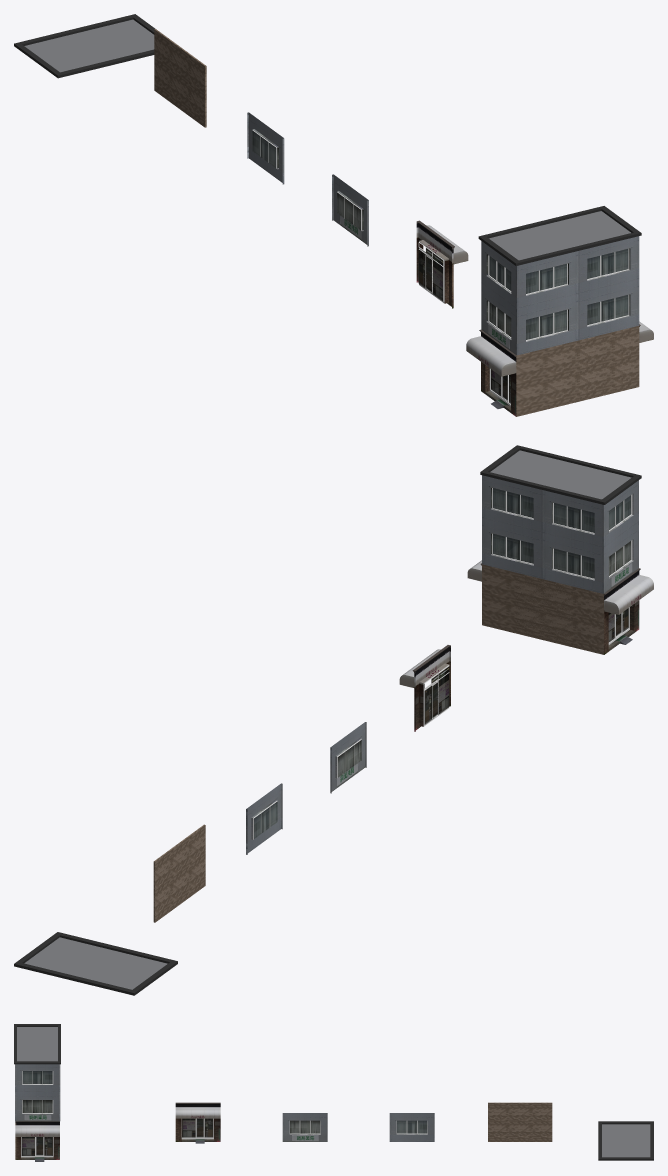
Rendered from bungalow.glb.
3 renders of one model, top to bottom at view 1: azimuth 30°, elevation 25°; view 2: azimuth 150°, elevation 25°; view 3: azimuth 270°, elevation 25°, orthographic. The views are drawn at different scales.
Parts seen in each view (by area): view 1: 006.3_Building_facade.003_12, 006.4_Building_facade.001_13, Roof_5, Roof.001_16, 006.4_Building_facade_4, 006.1_Building_facade_0, 006.3_Building_facade_3, 006.2_Building_facade_1, 006.2_Building_facade.003_9, 006.3_Building_facade.002_11, 006.1_Building_facade.002_7, 006.5_Building_prop.002_15; view 2: 006.3_Building_facade.003_12, 006.4_Building_facade.001_13, Roof_5, Roof.001_16, 006.4_Building_facade_4, 006.1_Building_facade_0, 006.2_Building_facade_1, 006.3_Building_facade_3, 006.2_Building_facade.003_9, 006.3_Building_facade.002_11, 006.1_Building_facade.002_7, 006.5_Building_prop.002_15; view 3: 006.4_Building_facade_4, Roof_5, Roof.001_16, 006.1_Building_facade_0, 006.2_Building_facade_1, 006.3_Building_facade_3, 006.2_Building_facade.001_8, 006.1_Building_facade.001_6, 006.3_Building_facade.001_10, 006.5_Building_prop_2, 006.5_Building_prop.001_14, 006.3_Building_facade.003_12.
Boxes of the visible parts, x1,y1,x2,y2 form: 006.3_Building_facade.003_12: (516,236,639,355); 006.4_Building_facade.001_13: (516,326,639,416); Roof_5: (14,14,155,78); Roof.001_16: (478,206,641,265); 006.4_Building_facade_4: (154,29,206,127); 006.1_Building_facade_0: (416,220,454,308); 006.3_Building_facade_3: (247,112,284,184); 006.2_Building_facade_1: (332,174,368,246); 006.2_Building_facade.003_9: (481,284,516,354); 006.3_Building_facade.002_11: (481,241,516,308); 006.1_Building_facade.002_7: (479,329,516,416); 006.5_Building_prop.002_15: (466,336,516,376); 006.3_Building_facade.003_12: (482,475,603,593); 006.4_Building_facade.001_13: (482,564,603,654); Roof_5: (14,932,177,995); Roof.001_16: (480,445,641,504); 006.4_Building_facade_4: (153,824,205,922); 006.1_Building_facade_0: (412,645,450,731); 006.2_Building_facade_1: (330,722,366,793); 006.3_Building_facade_3: (246,783,282,854); 006.2_Building_facade.003_9: (603,523,638,593); 006.3_Building_facade.002_11: (603,480,638,547); 006.1_Building_facade.002_7: (604,568,640,654); 006.5_Building_prop.002_15: (604,575,653,614); 006.4_Building_facade_4: (488,1102,552,1141); Roof_5: (598,1121,653,1160); Roof.001_16: (14,1024,60,1064); 006.1_Building_facade_0: (175,1102,220,1143); 006.2_Building_facade_1: (282,1113,327,1141); 006.3_Building_facade_3: (389,1113,434,1141); 006.2_Building_facade.001_8: (16,1092,58,1121); 006.1_Building_facade.001_6: (15,1121,59,1161); 006.3_Building_facade.001_10: (16,1064,58,1091); 006.5_Building_prop_2: (175,1107,220,1118); 006.5_Building_prop.001_14: (15,1125,59,1136); 006.3_Building_facade.003_12: (15,1064,60,1121).
Size of the model in its own units: 10.39 by 10.06 by 59.81.
9 materials, 6 textured.
